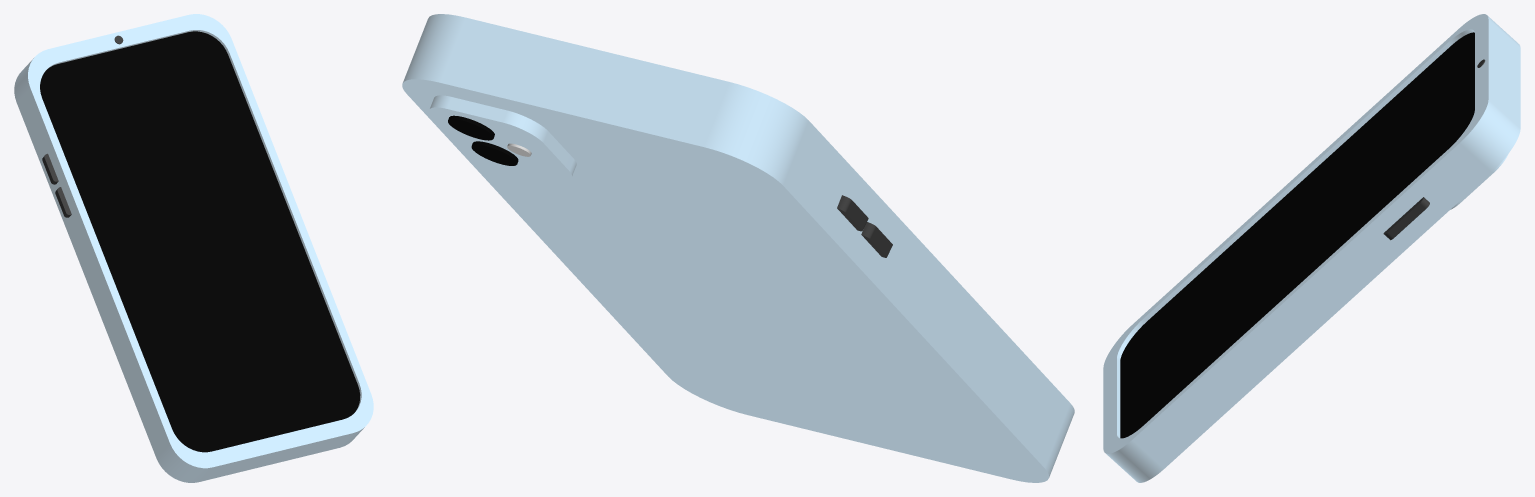
File: phone.glb
3 renders of one model, left to right at view 1: azimuth 30°, elevation 25°; view 2: azimuth 150°, elevation 25°; view 3: azimuth 270°, elevation 25°, orthographic. The views are drawn at different scales.
Parts seen in each view (by area): view 1: Phone_Case; view 2: Phone_Case, Phone_Camera; view 3: Phone_Case, Power_Button.
Boxes of the visible parts, x1,y1,x2,y2 form: Phone_Case: (14,14,373,482); Phone_Case: (402,14,1074,482); Phone_Camera: (429,95,576,179); Phone_Case: (1103,14,1520,482); Power_Button: (1383,197,1429,240).
Bounding box in the file's own units: 31.4 × 45.96 × 45.96.
